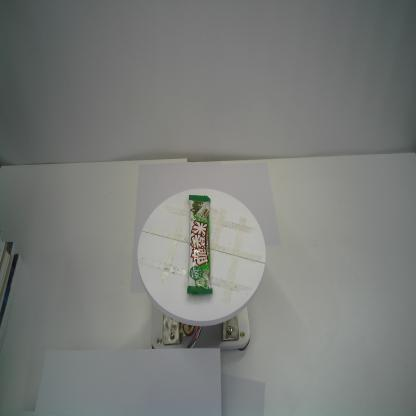Chocolate: (186, 194, 213, 296)
